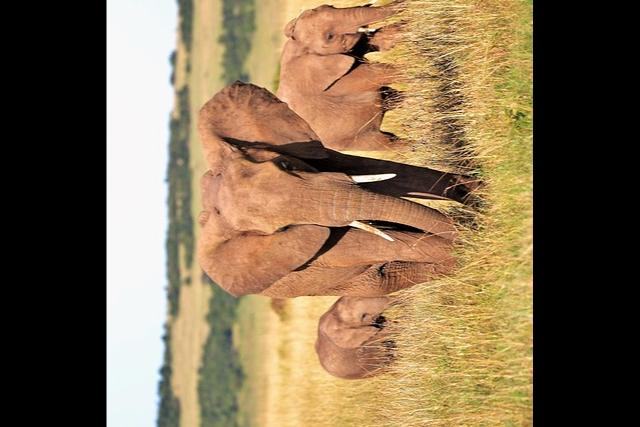Non_Gorille: (114, 0, 525, 397)
